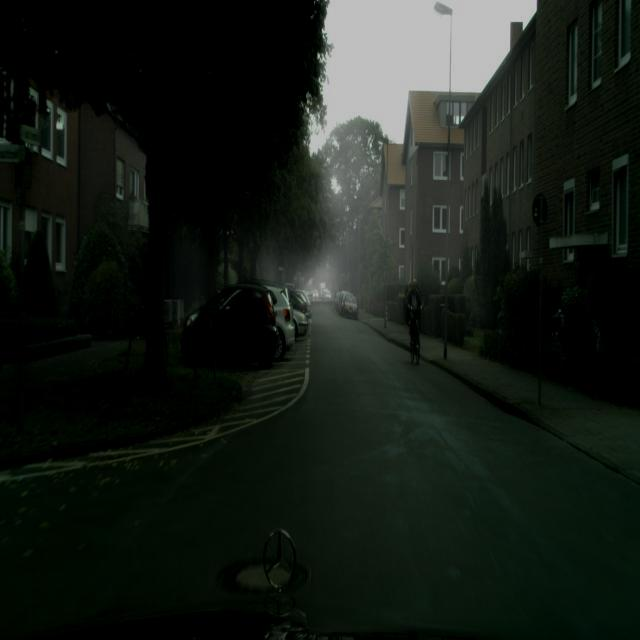car: (409, 310, 421, 365)
person: (404, 279, 424, 356)
truck: (180, 283, 282, 369), (286, 287, 310, 336), (338, 291, 358, 319)
